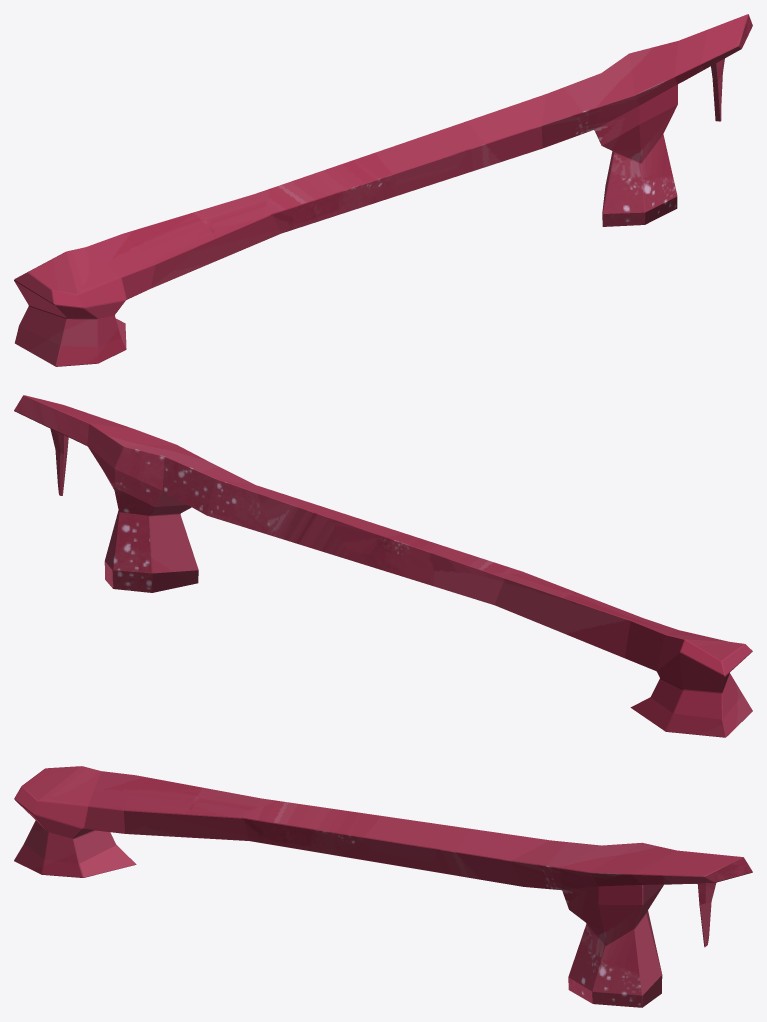
Rendered from TrenchRailTextured.fbx.
The picture shows the model from 3 angles, top to bottom: view 1: azimuth 30°, elevation 25°; view 2: azimuth 150°, elevation 25°; view 3: azimuth 330°, elevation 25°; orthographic projection.
Visible parts, largest first — view 1: Rail; view 2: Rail; view 3: Rail.
Boxes of the visible parts, <box> form: Rail: <box>14,14,752,366</box>; Rail: <box>14,395,752,737</box>; Rail: <box>14,766,752,1007</box>.
Size of the model in its own units: 1444 by 307 by 174.
